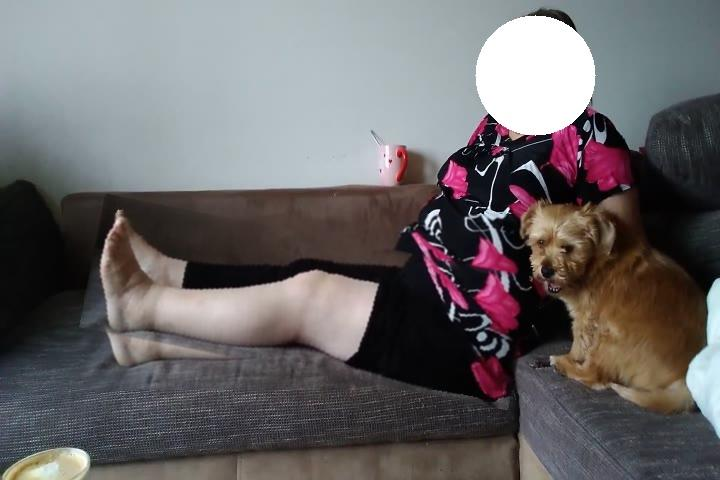lowerbody: (85, 215, 530, 391)
